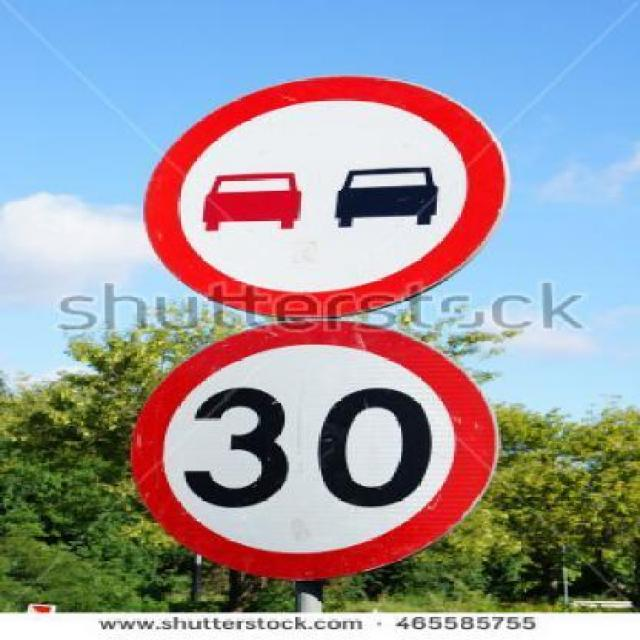Ograniczenie predkosci do 30: (131, 323, 514, 582)
